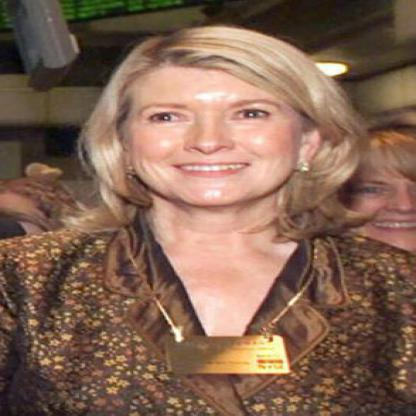face: (117, 32, 308, 209), (2, 1, 3, 2)
